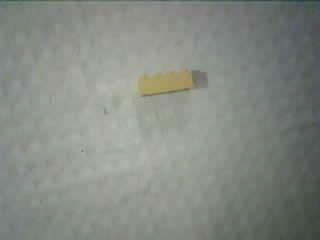lego: (134, 67, 193, 97)
